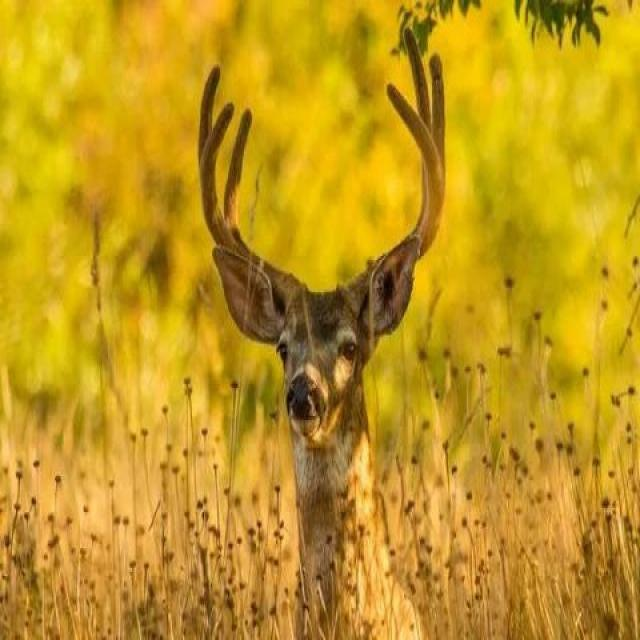deer: (142, 29, 468, 559)
